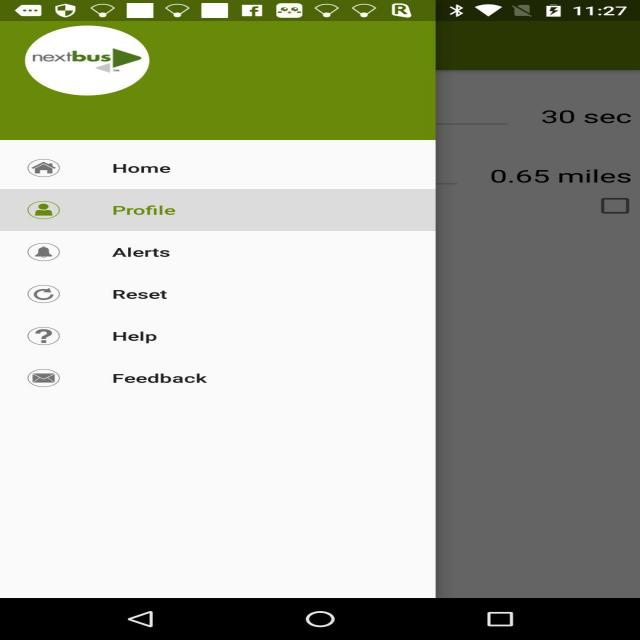button: (0, 142, 434, 188), (0, 189, 434, 233), (0, 278, 433, 321), (0, 234, 438, 276), (2, 358, 432, 392), (2, 323, 438, 355)
icon: (24, 366, 64, 390), (24, 282, 61, 304), (24, 158, 64, 177), (27, 327, 61, 347), (28, 243, 63, 262), (25, 202, 58, 219)
image: (25, 27, 152, 94)
text: (101, 372, 215, 385), (108, 160, 176, 180), (108, 202, 181, 220), (106, 284, 170, 304), (107, 245, 172, 260), (107, 330, 162, 346)
